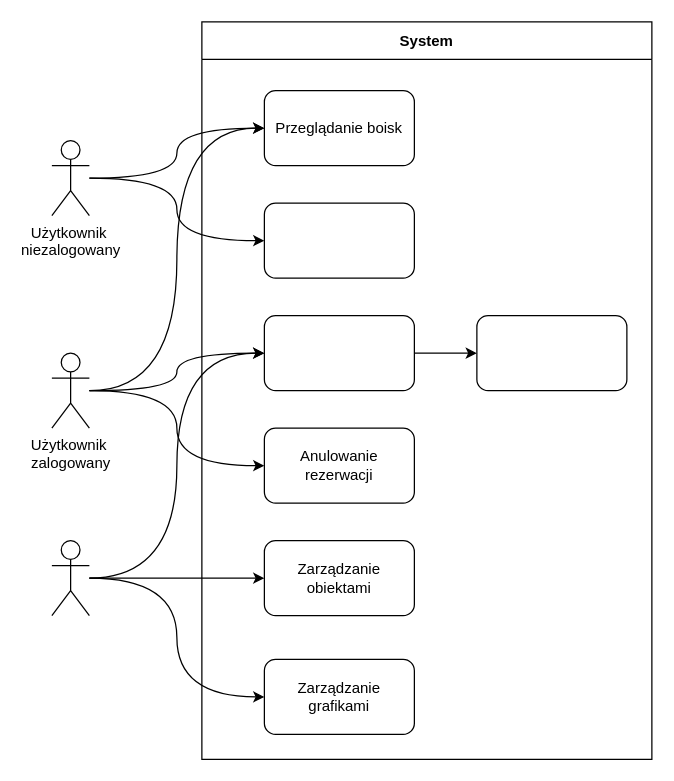
This 674x781 diagram has some shape labels left out. The centre of each missing label's shape, as x and y in pixels:
"Administrator" goes at point (70, 577).
"Dokonywanie rezerwacji" goes at point (338, 352).
"Płatność online" goes at point (551, 352).
"Rejestracja/Logowanie" goes at point (338, 240).
